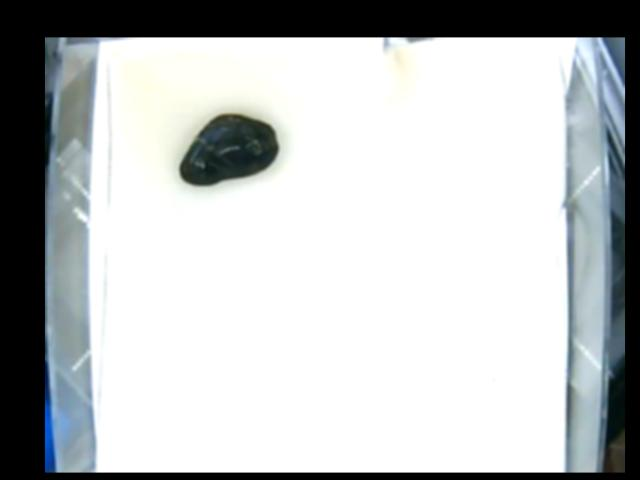Pebble: (179, 112, 280, 187)
